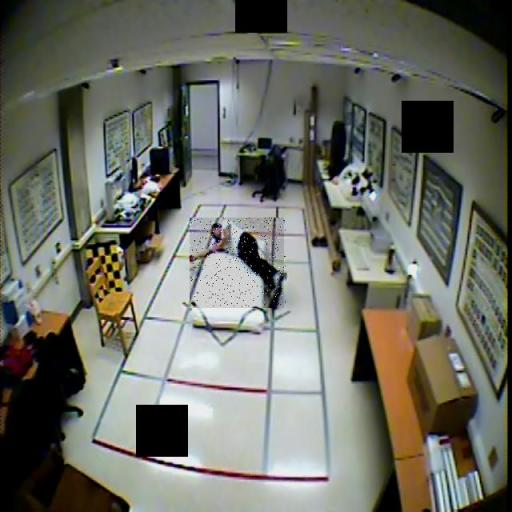Fall: (191, 218, 287, 308)
